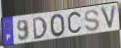9: (16, 19, 31, 42)
C: (66, 10, 83, 37)
D: (32, 16, 49, 41)
O: (49, 13, 67, 39)
S: (83, 9, 101, 33)
V: (99, 4, 118, 32)
